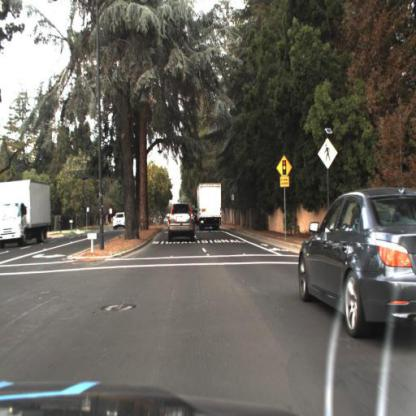car: (295, 178, 414, 352), (164, 196, 199, 251), (193, 181, 227, 235), (111, 207, 128, 232)
truck: (1, 183, 54, 250)
